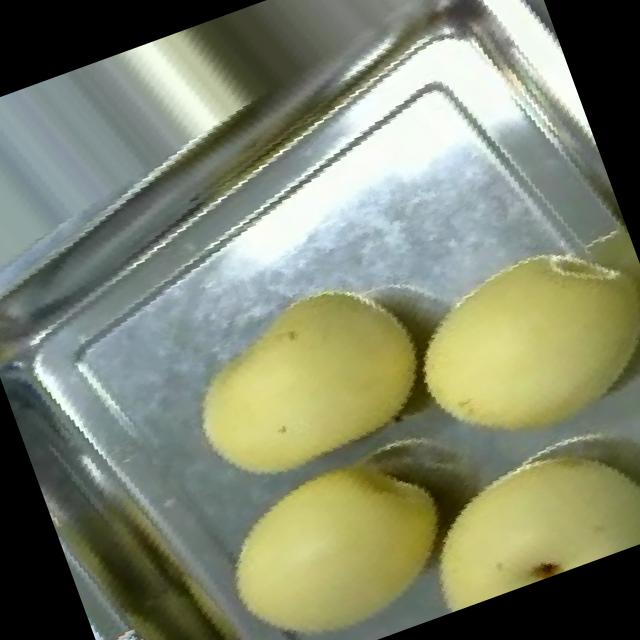Fruit: (134, 226, 483, 546), (352, 184, 640, 500), (171, 399, 495, 640), (365, 387, 640, 625)
